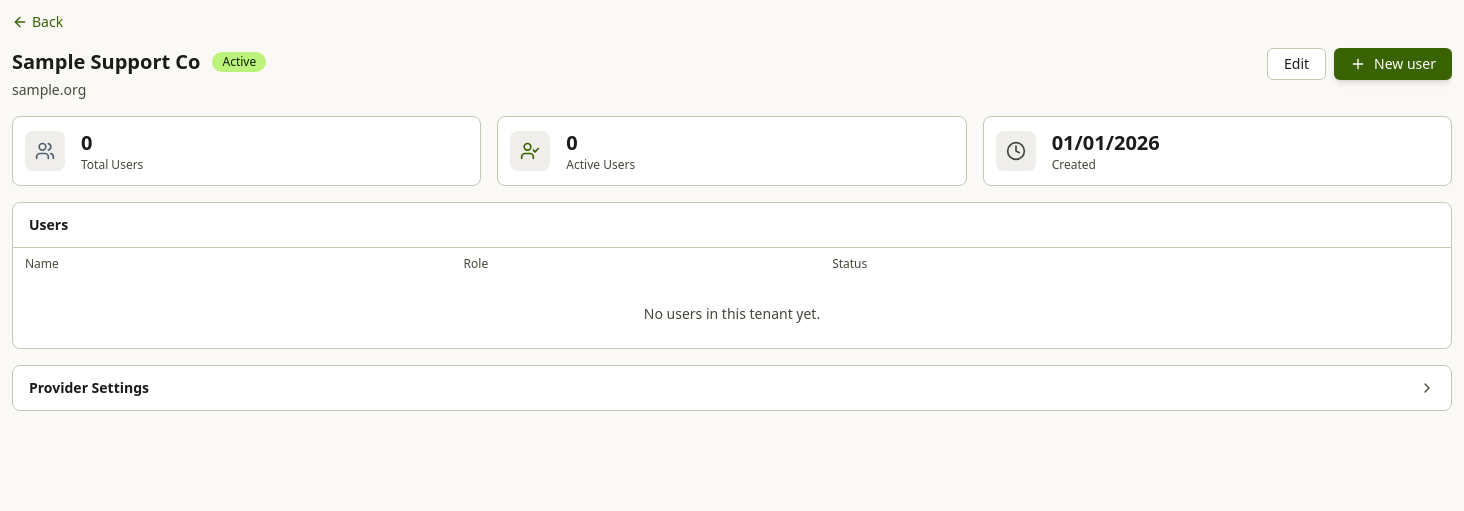
Test: TenantDetailView: loads that fail say so › says the provider settings could not load when the section is opened
This screenshot has width=1464, height=511.
Click the button "Provider Settings" at point(89, 388), box [13,366,1451,410]
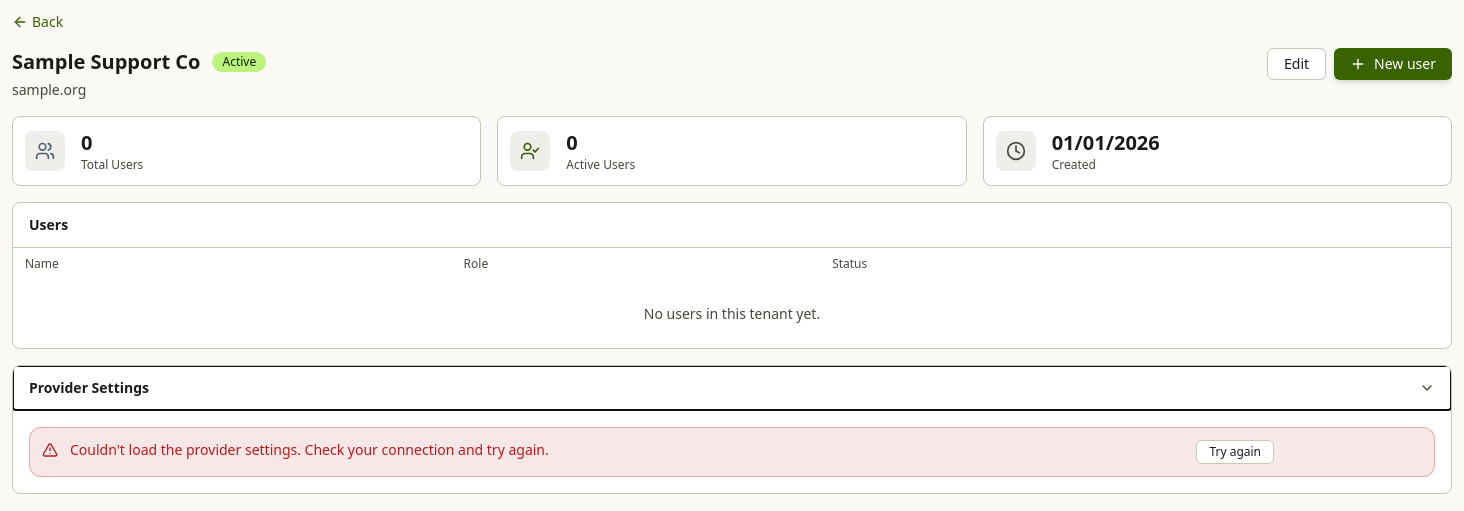
Now the text "Couldn't load the provider settings" is shown, box [70,440,549,459]
